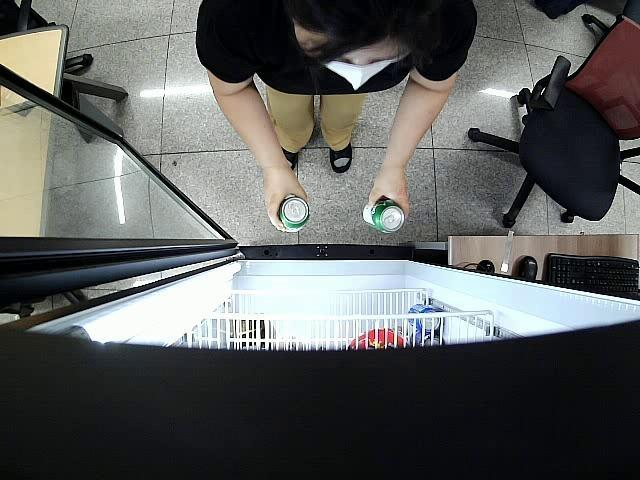12_chilsungCider: (363, 199, 405, 234), (278, 198, 310, 234)
